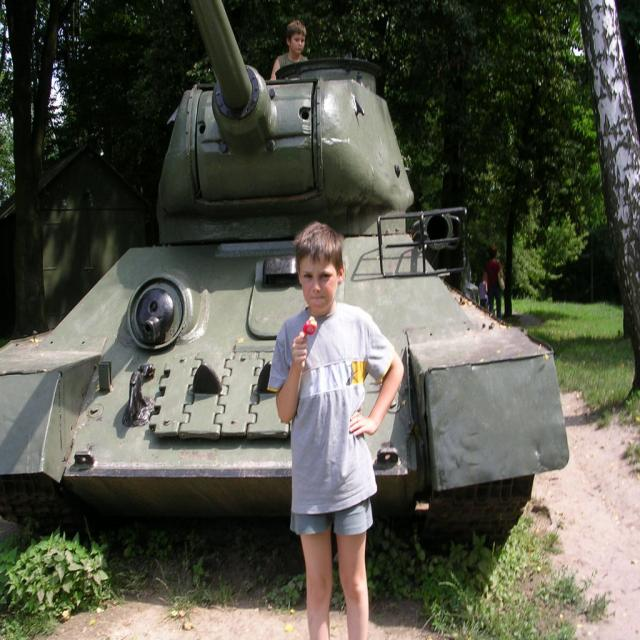tank: (0, 0, 570, 542)
